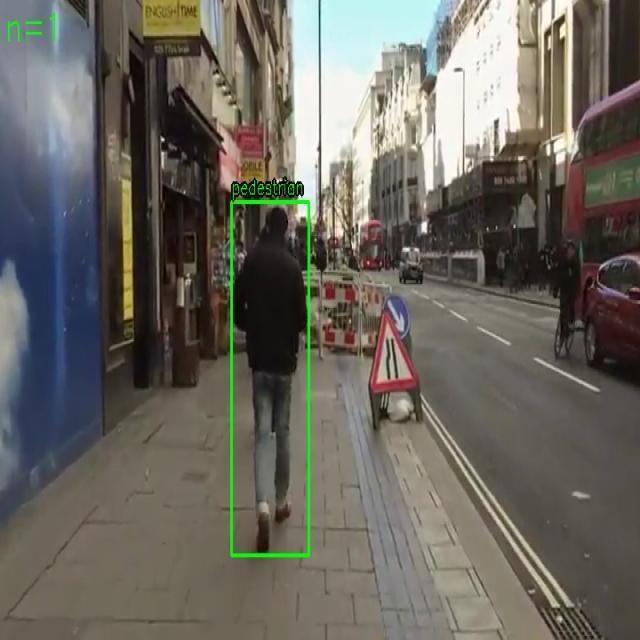person: (231, 201, 309, 556)
